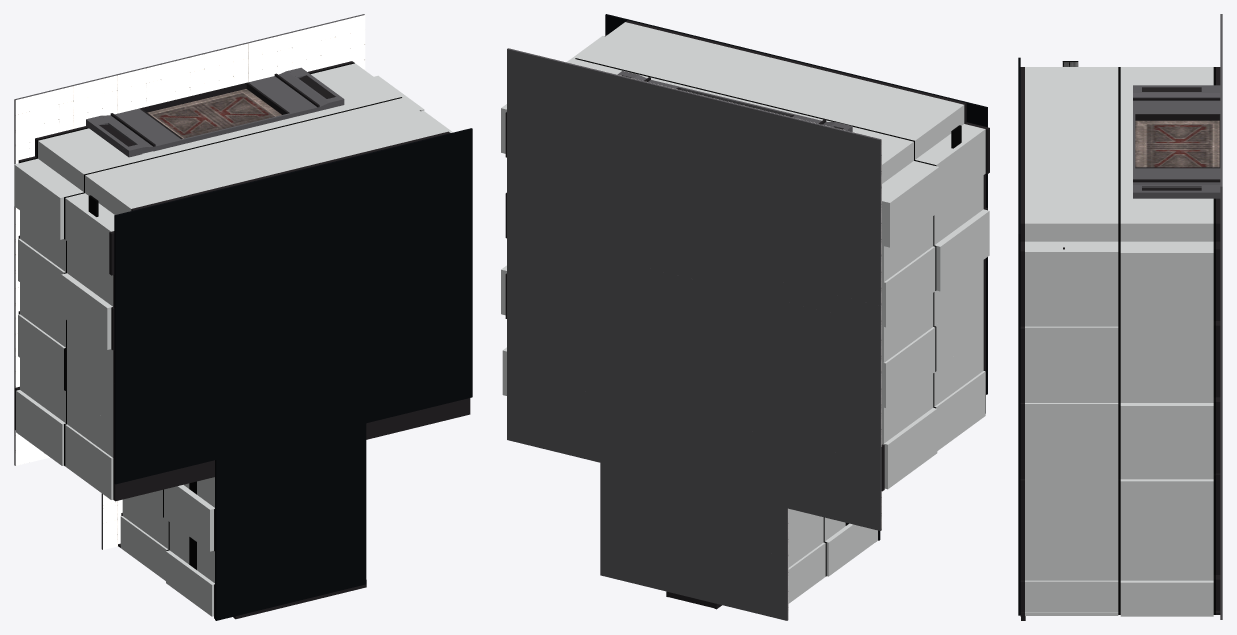
The model's file is scp_end_gate.fbx.
The picture shows the model from 3 angles, left to right: view 1: azimuth 30°, elevation 25°; view 2: azimuth 150°, elevation 25°; view 3: azimuth 270°, elevation 25°; orthographic projection. The views are drawn at different scales.
Visible parts, largest first — view 1: Object_13, Object_17, Object_12, Object_6, Object_9, Object_11, Object_2, Object_4, Object_10, Object_18; view 2: Object_10, Object_17, Object_6, Object_13, Object_18, Object_9; view 3: Object_17, Object_6, Object_9, Object_18, Object_4, Object_11, Object_2, Object_10, Object_13.
Boxes of the visible parts, x1,y1,x2,y2 form: Object_13: (114, 128, 472, 620); Object_17: (14, 63, 452, 616); Object_12: (15, 15, 365, 549); Object_6: (14, 61, 470, 619); Object_9: (86, 67, 344, 157); Object_11: (99, 73, 335, 146); Object_2: (193, 89, 281, 127); Object_4: (147, 101, 228, 138); Object_10: (14, 14, 364, 549); Object_18: (20, 62, 420, 550); Object_10: (507, 48, 881, 620); Object_17: (501, 22, 989, 603); Object_6: (505, 20, 989, 540); Object_13: (605, 14, 987, 540); Object_18: (575, 58, 936, 576); Object_9: (617, 71, 852, 131); Object_17: (1025, 67, 1213, 616); Object_6: (1020, 67, 1220, 620); Object_9: (1133, 85, 1220, 198); Object_18: (1118, 67, 1215, 614); Object_4: (1135, 120, 1219, 146); Object_11: (1063, 87, 1220, 249); Object_2: (1135, 146, 1219, 167); Object_10: (1220, 14, 1222, 619); Object_13: (1018, 57, 1020, 615).
Bounding box in the file's own units: 38.32 × 48.17 × 18.39.
17 materials, 8 textured.
